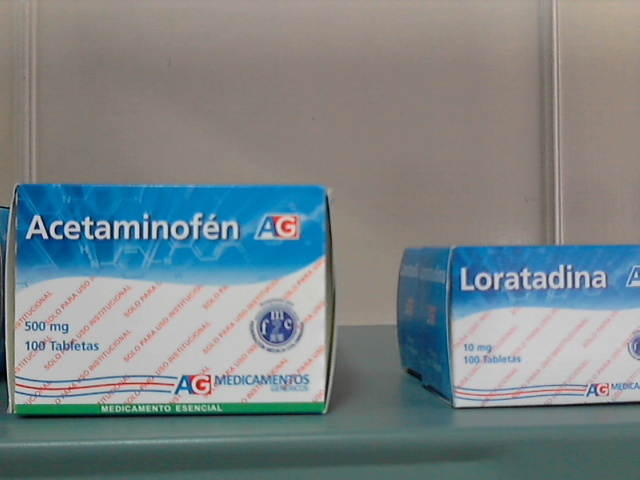AG: (17, 185, 325, 413)
